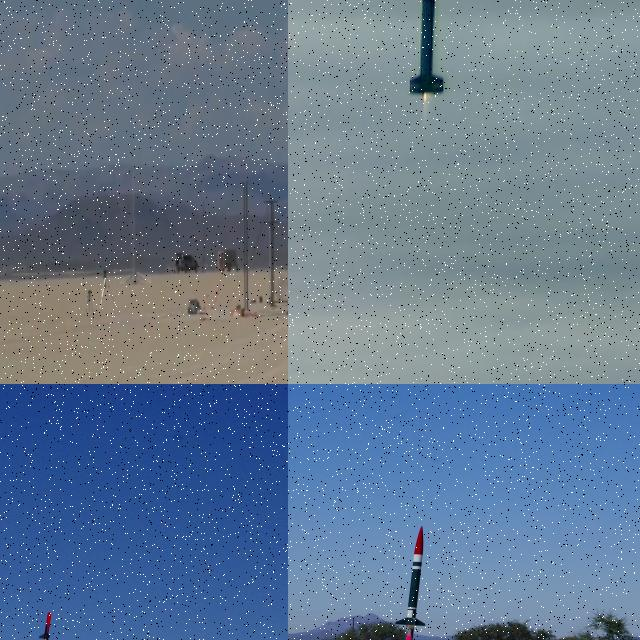Rocket: (407, 0, 444, 94), (396, 525, 426, 631), (38, 612, 53, 640)
